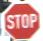Stop sign: (0, 0, 42, 40)
